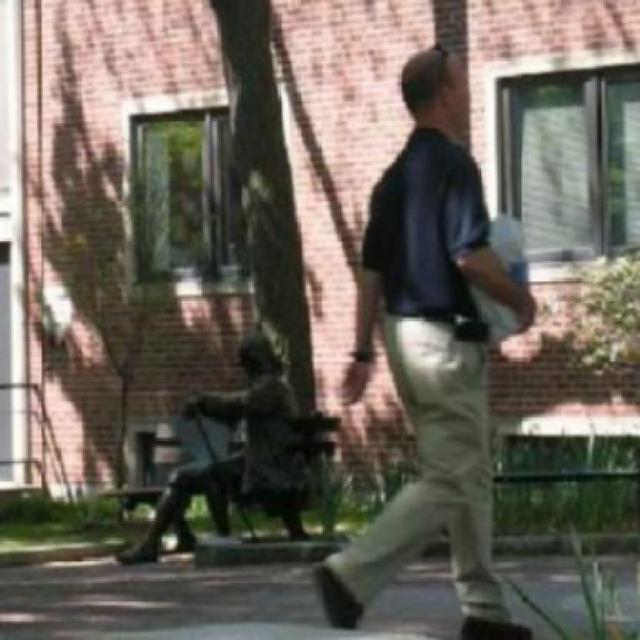Person: (306, 37, 546, 638)
